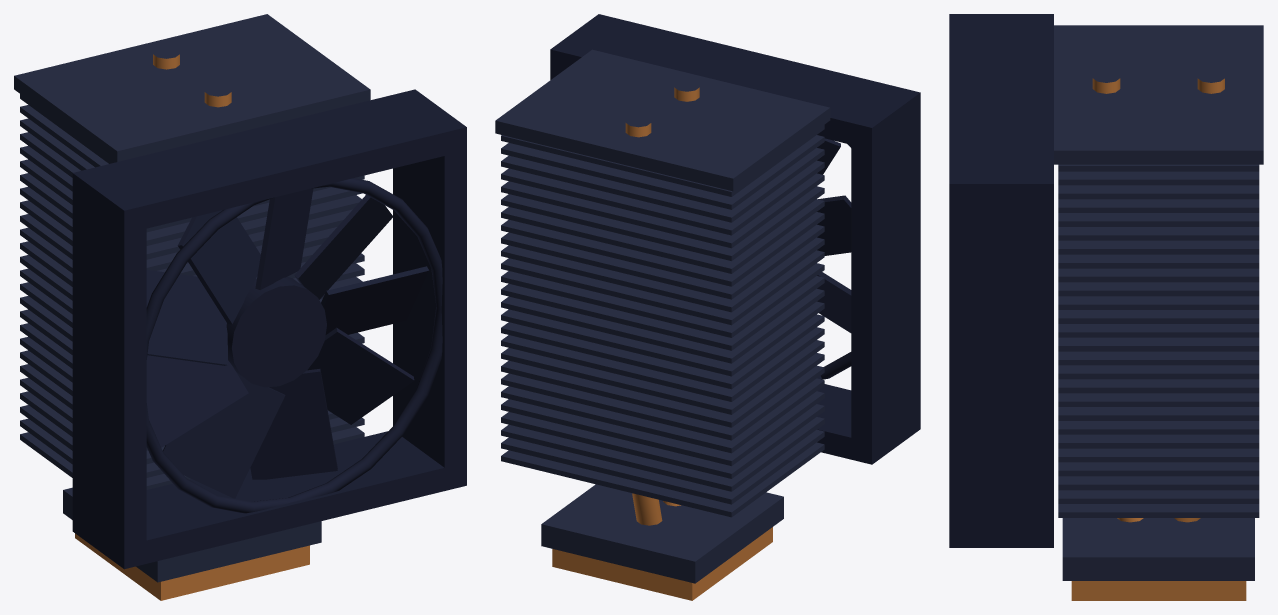
The model's file is cooler-air-small.glb.
3 views of the same model, side by side, from view 1: azimuth 30°, elevation 25°; view 2: azimuth 150°, elevation 25°; view 3: azimuth 270°, elevation 25° (orthographic). The views are drawn at different scales.
Parts seen in each view (by area): view 1: fan_frame, blades_1, top_cap_1, fin_stack_1, fan_inner_ring, base_block, cold_plate, heatpipes; view 2: fin_stack_1, fan_frame, top_cap_1, base_block, cold_plate, blades_1, heatpipes; view 3: fin_stack_1, fan_frame, top_cap_1, base_block, cold_plate, heatpipes.
Part boxes in pixels (<box>): fan_frame: <box>72,89,466,569</box>; blades_1: <box>146,188,429,498</box>; top_cap_1: <box>14,14,370,162</box>; fin_stack_1: <box>20,94,364,489</box>; fan_inner_ring: <box>146,178,442,513</box>; base_block: <box>63,487,321,582</box>; cold_plate: <box>75,533,309,600</box>; heatpipes: <box>153,54,231,107</box>; fin_stack_1: <box>501,125,824,517</box>; fan_frame: <box>550,14,920,464</box>; top_cap_1: <box>495,49,830,191</box>; base_block: <box>541,484,783,583</box>; cold_plate: <box>552,527,772,600</box>; blades_1: <box>817,138,851,379</box>; heatpipes: <box>625,87,699,525</box>; fin_stack_1: <box>1058,164,1259,517</box>; fan_frame: <box>949,14,1053,547</box>; top_cap_1: <box>1054,25,1263,164</box>; base_block: <box>1062,518,1254,580</box>; cold_plate: <box>1071,581,1246,600</box>; heatpipes: <box>1092,78,1224,522</box>.
Bounding box in the file's own units: 92 × 123 × 72.
